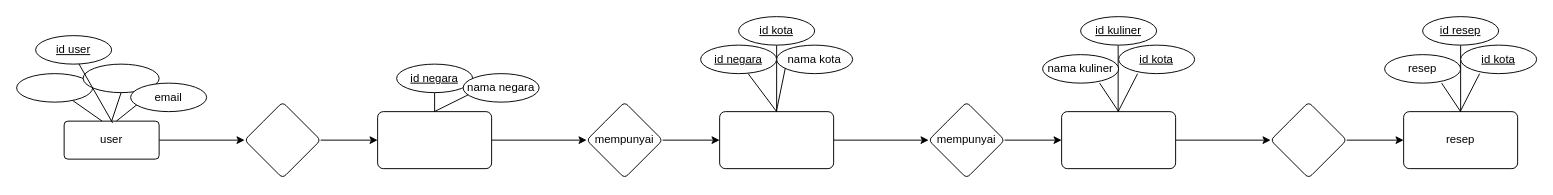
Image size: 1553x195. Some labels were removed from this diagram. Each missing label, with the box of its shape:
kota: (719, 111, 834, 169)
kuliner: (1061, 111, 1176, 169)
memilih: (244, 101, 321, 178)
memiliki: (1270, 101, 1347, 178)
negara: (377, 111, 492, 169)
password: (82, 63, 159, 93)
username: (16, 73, 93, 102)
